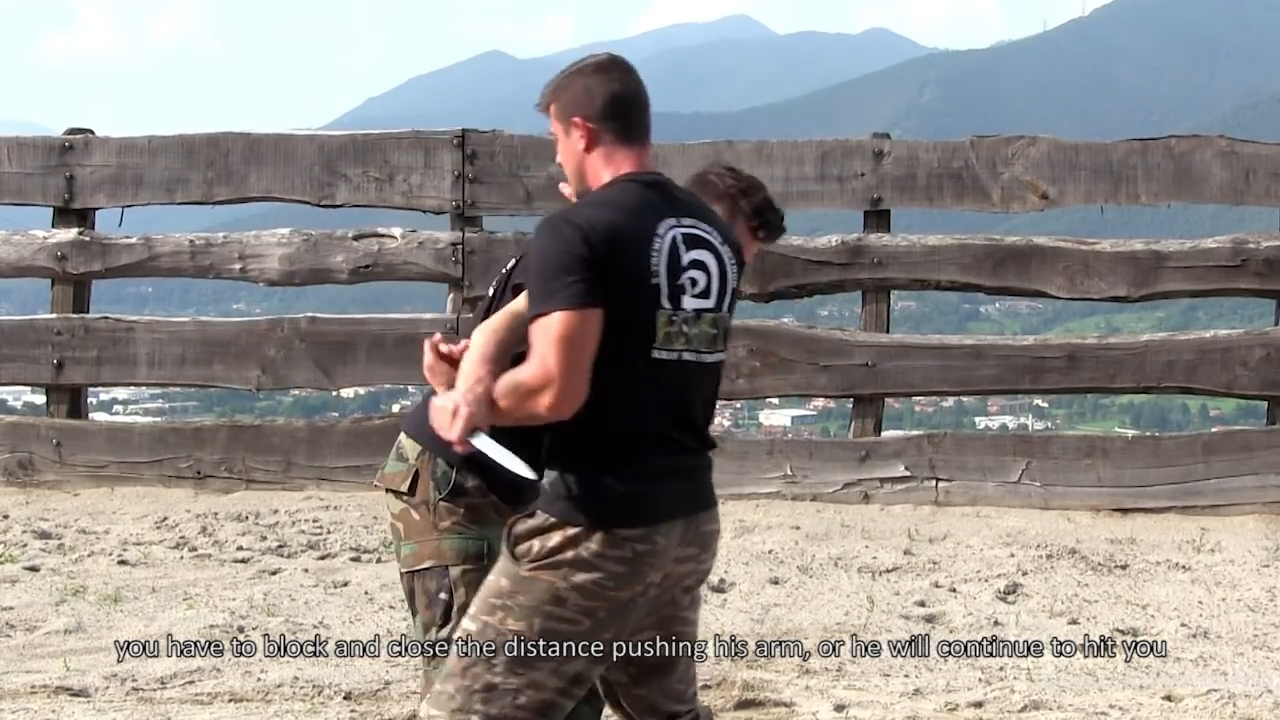knife: (422, 384, 543, 484)
